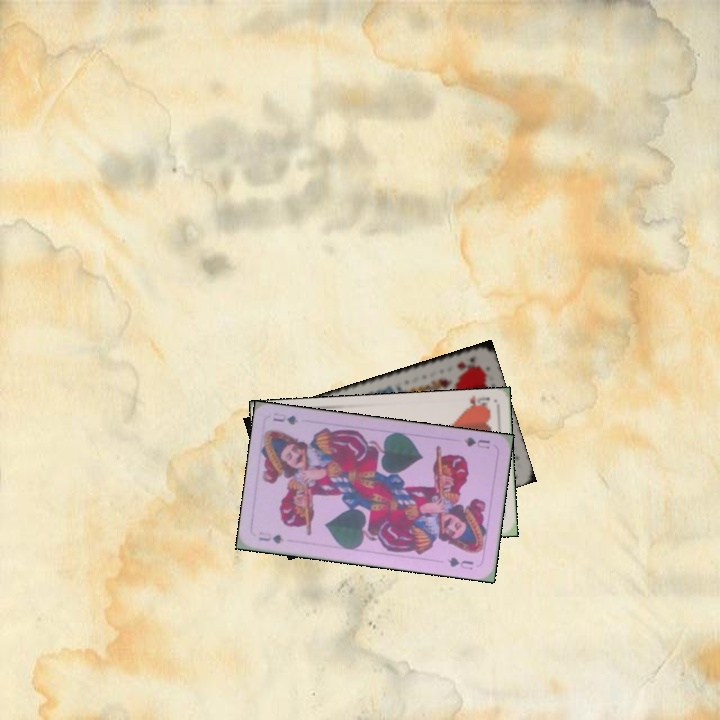GU: (255, 527, 286, 546), (460, 433, 492, 451)
HK: (453, 354, 477, 373)
HO: (458, 392, 493, 413)
